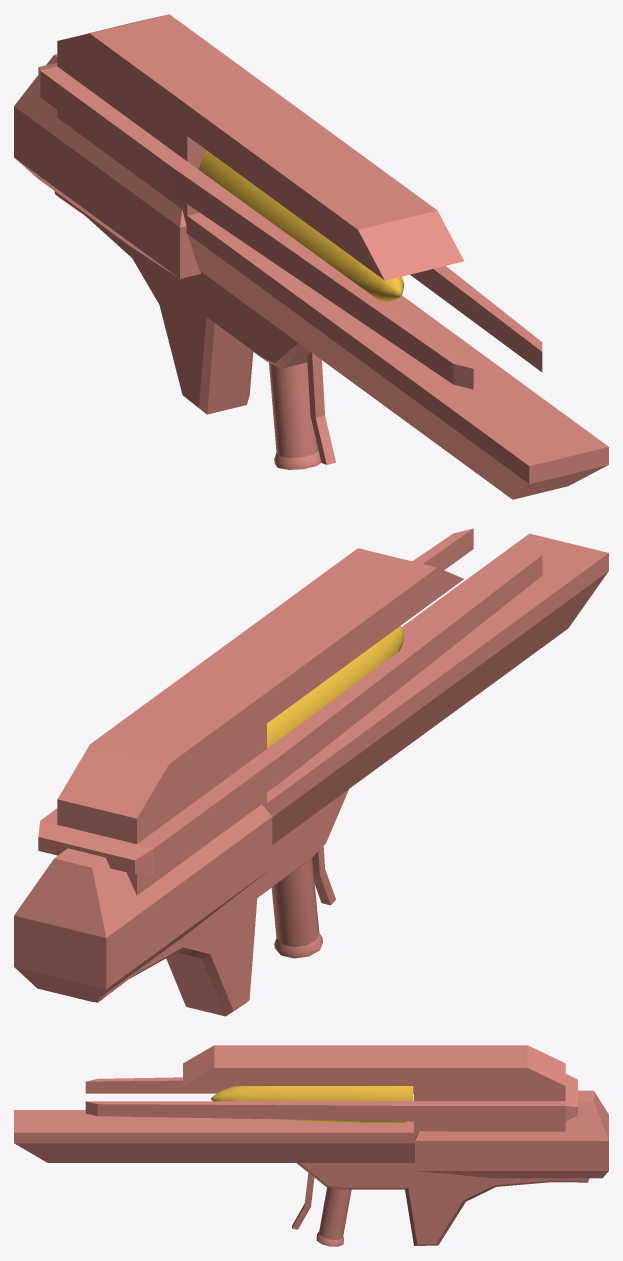
Rendered from RocketLauncher.fbx.
3 views of the same model, one above another, from view 1: azimuth 30°, elevation 25°; view 2: azimuth 150°, elevation 25°; view 3: azimuth 270°, elevation 25° (orthographic). The views are drawn at different scales.
Parts seen in each view (by area): view 1: Rocket_Launcher, Rocket; view 2: Rocket_Launcher, Rocket; view 3: Rocket_Launcher, Rocket.
Boxes of the visible parts, x1,y1,x2,y2 form: Rocket_Launcher: [14, 14, 608, 499]; Rocket: [199, 151, 404, 301]; Rocket_Launcher: [14, 528, 608, 1016]; Rocket: [267, 626, 404, 748]; Rocket_Launcher: [14, 1045, 608, 1246]; Rocket: [211, 1086, 413, 1123].
Bounding box in the file's own units: 1.74 × 4.63 × 13.43.
